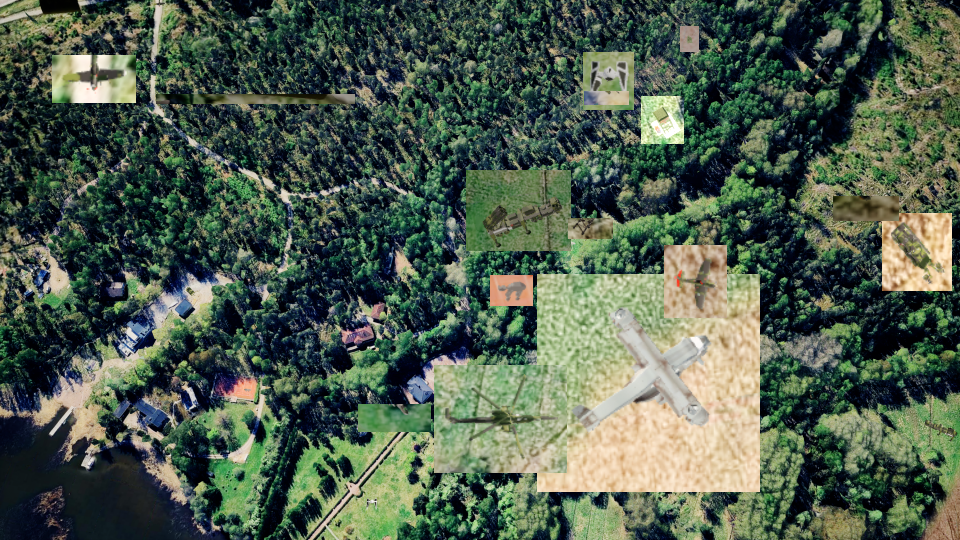condor: (537, 274, 760, 492)
hangar: (156, 94, 355, 104)
helicopter: (434, 365, 567, 473)
jammer: (581, 446, 608, 481)
jet_plane: (358, 404, 431, 432)
large_launcher: (466, 170, 571, 251)
large_tower: (568, 218, 613, 239)
medium_launcher: (833, 196, 899, 221)
medium_plane: (52, 55, 136, 103)
mine_roller: (882, 213, 952, 291)
small_launcher: (680, 26, 699, 52)
small_plane: (664, 245, 727, 318)
small_tower: (641, 96, 684, 144)
spacecraft: (583, 52, 634, 110)
ta-ta: (490, 275, 533, 306)
tank: (584, 91, 629, 105)
